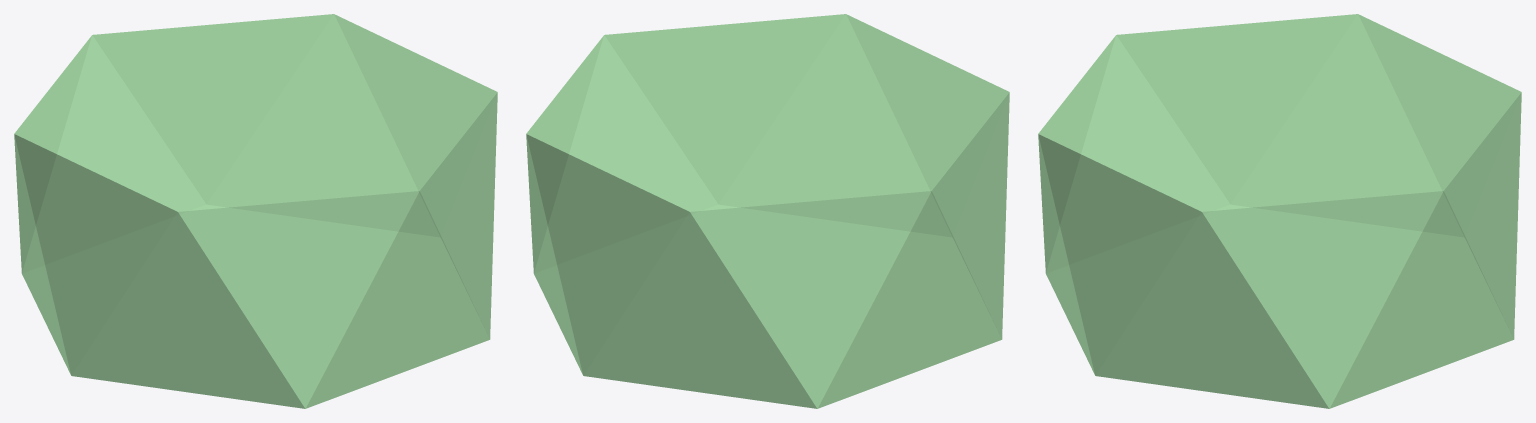
3 views of the same model, side by side, from view 1: azimuth 30°, elevation 25°; view 2: azimuth 150°, elevation 25°; view 3: azimuth 270°, elevation 25° (orthographic).
Visible parts, largest first — view 1: root; view 2: root; view 3: root.
Part boxes in pixels (x1,y1,x2,y2): root: [14, 14, 497, 408]; root: [526, 14, 1009, 408]; root: [1038, 14, 1521, 408].
Size of the model in its own units: 6.2 by 2.74 by 6.2.
